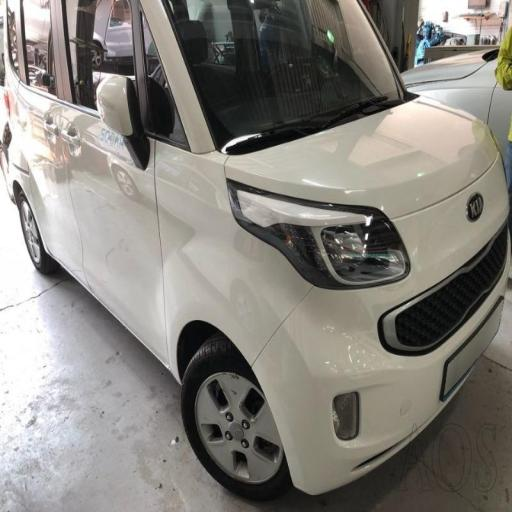scratch: (140, 133, 330, 414)
